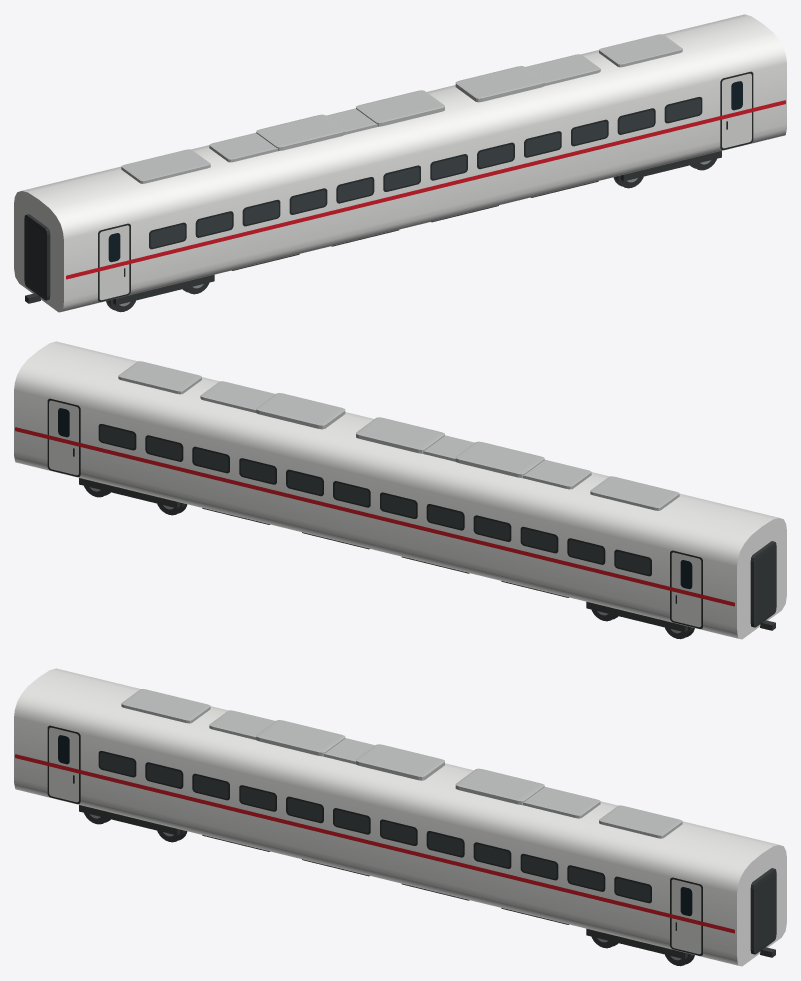
File: ice3-br403-v2-second-converter-403-7.glb
3 renders of one model, top to bottom at view 1: azimuth 30°, elevation 25°; view 2: azimuth 150°, elevation 25°; view 3: azimuth 330°, elevation 25°, orthographic.
Visible parts, largest first — view 1: ice3_v2_second_converter_403_7_matching_shell, ice3_v2_second_converter_403_7_continuous_red_stripe_-1, ice3_v2_second_converter_403_7_double_bellows_-1, ice3_v2_second_converter_403_7_roof_power_cabinet_2, ice3_v2_second_converter_403_7_roof_power_cabinet_0, ice3_v2_second_converter_403_7_roof_power_cabinet_1, ice3_v2_second_converter_403_7_roof_fairing_0, ice3_v2_second_converter_403_7_door_leaf_0_-1, ice3_v2_second_converter_403_7_door_leaf_1_-1, ice3_v2_second_converter_403_7_roof_fairing_4, ice3_v2_second_converter_403_7_roof_fairing_3, ice3_v2_second_converter_403_7_roof_fairing_1 (+15 smaller); view 2: ice3_v2_second_converter_403_7_matching_shell, ice3_v2_second_converter_403_7_continuous_red_stripe_1, ice3_v2_second_converter_403_7_double_bellows_-1, ice3_v2_second_converter_403_7_roof_power_cabinet_2, ice3_v2_second_converter_403_7_roof_power_cabinet_0, ice3_v2_second_converter_403_7_roof_power_cabinet_1, ice3_v2_second_converter_403_7_roof_fairing_0, ice3_v2_second_converter_403_7_door_leaf_0_1, ice3_v2_second_converter_403_7_door_leaf_1_1, ice3_v2_second_converter_403_7_roof_fairing_4, ice3_v2_second_converter_403_7_roof_fairing_3, ice3_v2_second_converter_403_7_roof_fairing_1 (+15 smaller); view 3: ice3_v2_second_converter_403_7_matching_shell, ice3_v2_second_converter_403_7_continuous_red_stripe_-1, ice3_v2_second_converter_403_7_double_bellows_1, ice3_v2_second_converter_403_7_roof_power_cabinet_1, ice3_v2_second_converter_403_7_roof_power_cabinet_0, ice3_v2_second_converter_403_7_roof_power_cabinet_2, ice3_v2_second_converter_403_7_roof_fairing_0, ice3_v2_second_converter_403_7_door_leaf_1_-1, ice3_v2_second_converter_403_7_door_leaf_0_-1, ice3_v2_second_converter_403_7_roof_fairing_4, ice3_v2_second_converter_403_7_roof_fairing_3, ice3_v2_second_converter_403_7_roof_fairing_1 (+15 smaller).
Part boxes in pixels (x1,y1,x2,y2): ice3_v2_second_converter_403_7_matching_shell: (14, 14, 786, 312); ice3_v2_second_converter_403_7_continuous_red_stripe_-1: (66, 100, 785, 279); ice3_v2_second_converter_403_7_double_bellows_-1: (24, 214, 50, 300); ice3_v2_second_converter_403_7_roof_power_cabinet_2: (455, 66, 544, 102); ice3_v2_second_converter_403_7_roof_power_cabinet_0: (256, 114, 345, 150); ice3_v2_second_converter_403_7_roof_power_cabinet_1: (356, 90, 444, 126); ice3_v2_second_converter_403_7_roof_fairing_0: (121, 149, 210, 183); ice3_v2_second_converter_403_7_door_leaf_0_-1: (99, 225, 129, 300); ice3_v2_second_converter_403_7_door_leaf_1_-1: (722, 73, 751, 148); ice3_v2_second_converter_403_7_roof_fairing_4: (599, 34, 682, 67); ice3_v2_second_converter_403_7_roof_fairing_3: (525, 54, 600, 85); ice3_v2_second_converter_403_7_roof_fairing_1: (209, 132, 278, 162); ice3_v2_second_converter_403_7_matching_shell: (14, 341, 786, 639); ice3_v2_second_converter_403_7_continuous_red_stripe_1: (15, 427, 734, 606); ice3_v2_second_converter_403_7_double_bellows_-1: (750, 541, 776, 627); ice3_v2_second_converter_403_7_roof_power_cabinet_2: (256, 393, 345, 429); ice3_v2_second_converter_403_7_roof_power_cabinet_0: (455, 441, 544, 477); ice3_v2_second_converter_403_7_roof_power_cabinet_1: (356, 417, 444, 453); ice3_v2_second_converter_403_7_roof_fairing_0: (590, 476, 679, 510); ice3_v2_second_converter_403_7_door_leaf_0_1: (671, 552, 701, 627); ice3_v2_second_converter_403_7_door_leaf_1_1: (49, 400, 78, 475); ice3_v2_second_converter_403_7_roof_fairing_4: (118, 361, 201, 394); ice3_v2_second_converter_403_7_roof_fairing_3: (200, 381, 275, 412); ice3_v2_second_converter_403_7_roof_fairing_1: (522, 459, 591, 489); ice3_v2_second_converter_403_7_matching_shell: (14, 668, 786, 966); ice3_v2_second_converter_403_7_continuous_red_stripe_-1: (15, 754, 734, 933); ice3_v2_second_converter_403_7_double_bellows_1: (750, 868, 776, 954); ice3_v2_second_converter_403_7_roof_power_cabinet_1: (356, 744, 444, 780); ice3_v2_second_converter_403_7_roof_power_cabinet_0: (256, 720, 345, 756); ice3_v2_second_converter_403_7_roof_power_cabinet_2: (455, 768, 544, 804); ice3_v2_second_converter_403_7_roof_fairing_0: (121, 689, 210, 723); ice3_v2_second_converter_403_7_door_leaf_1_-1: (671, 879, 701, 954); ice3_v2_second_converter_403_7_door_leaf_0_-1: (49, 727, 78, 802); ice3_v2_second_converter_403_7_roof_fairing_4: (599, 805, 682, 838); ice3_v2_second_converter_403_7_roof_fairing_3: (522, 786, 600, 818); ice3_v2_second_converter_403_7_roof_fairing_1: (209, 710, 275, 739).
Size of the model in its own units: 25.5 by 4.09 by 3.01.
